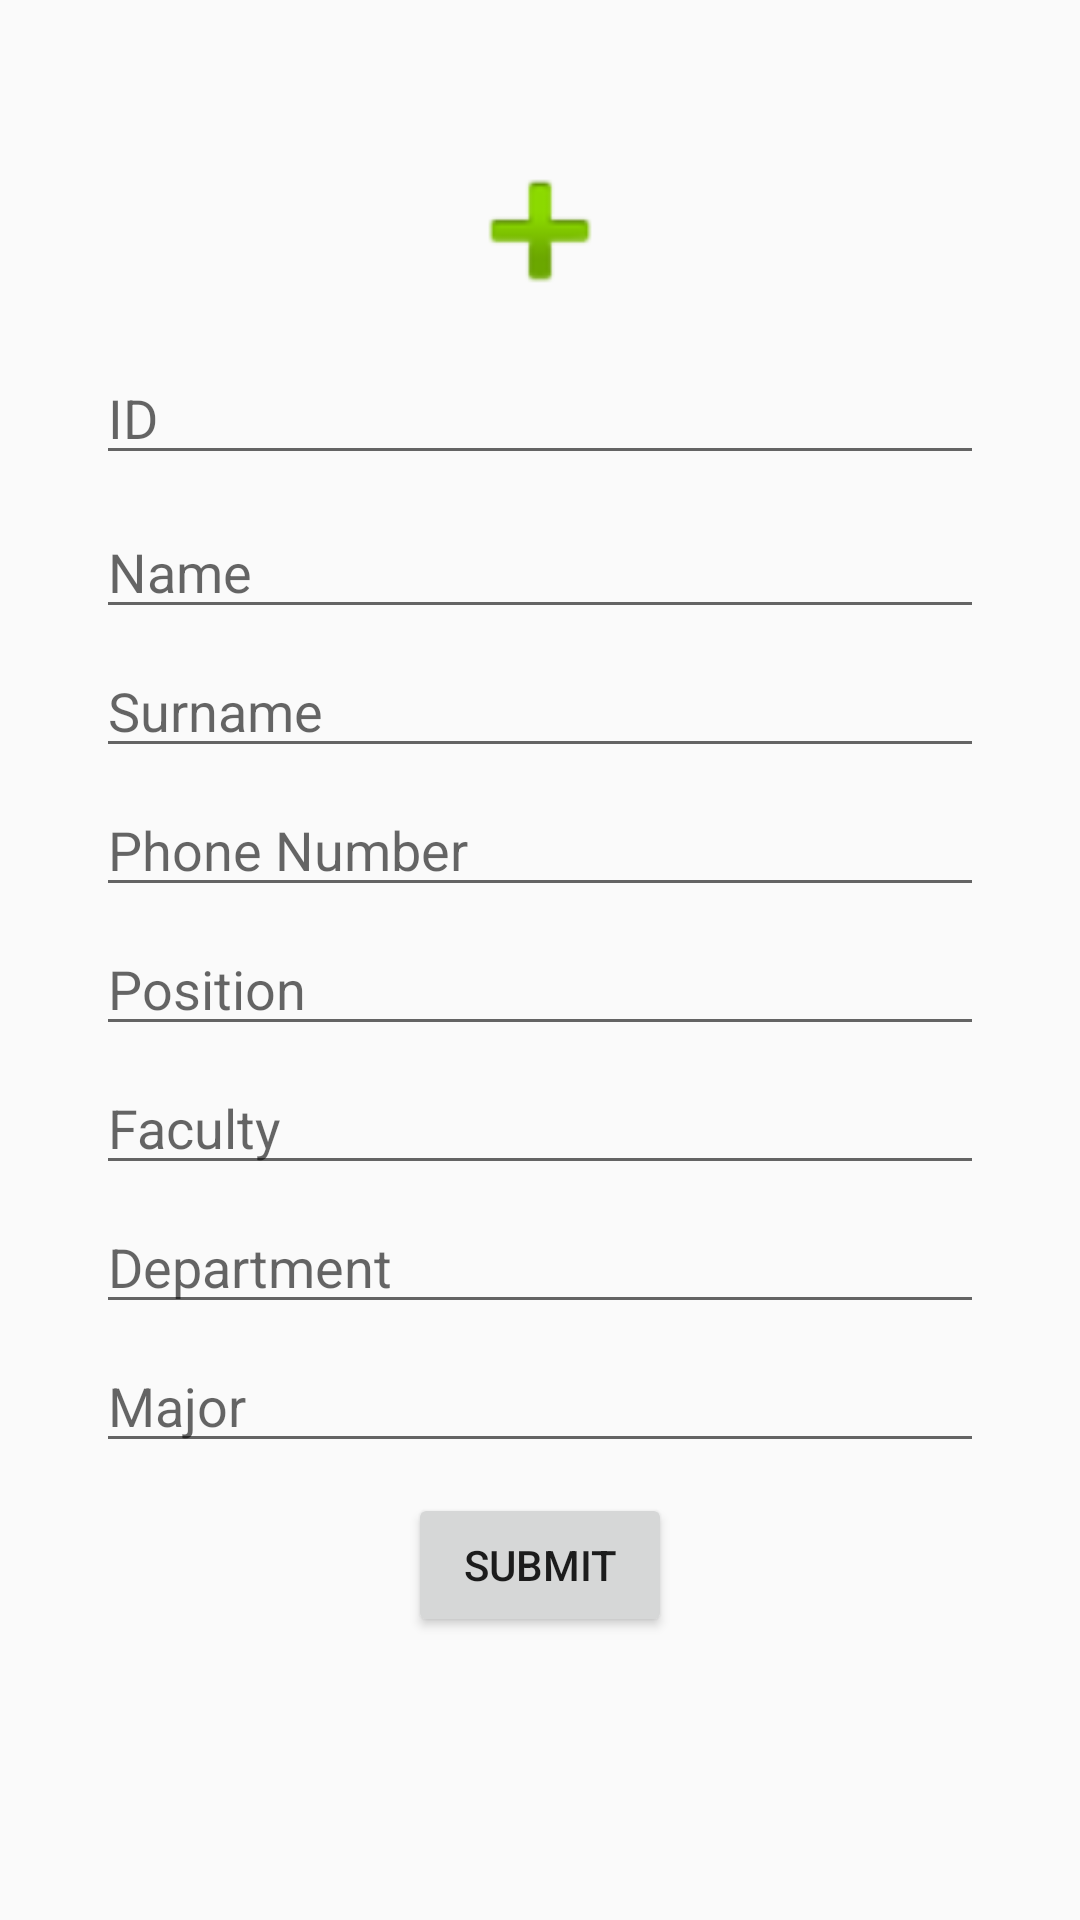

Named icons in this screenshot (1080 × 1920) and their centers, (x=x, y=y):
add: (x=540, y=231)
